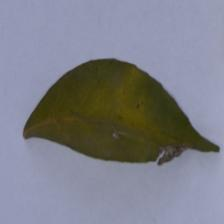greening: (21, 54, 155, 148)
